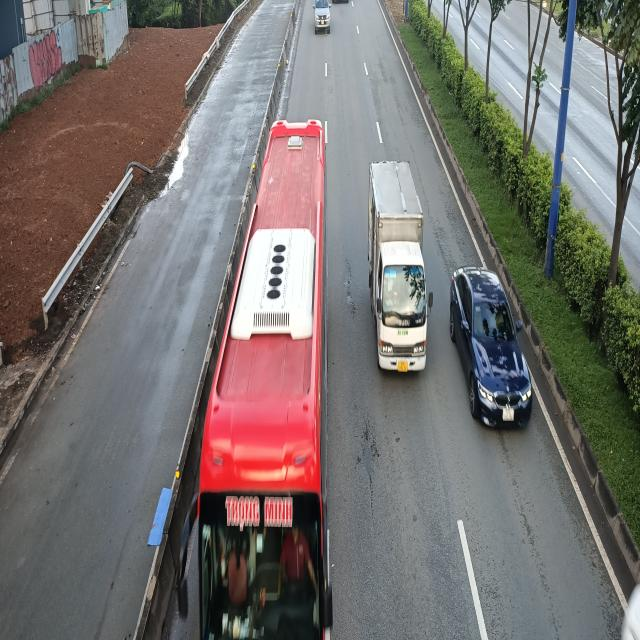car: (451, 268, 533, 430), (314, 0, 331, 34)
coach: (176, 118, 335, 640)
truck: (368, 160, 434, 376)
